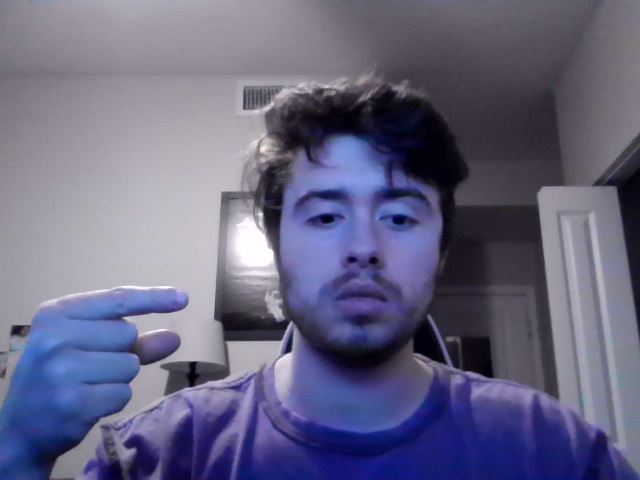g: (3, 285, 190, 462)
